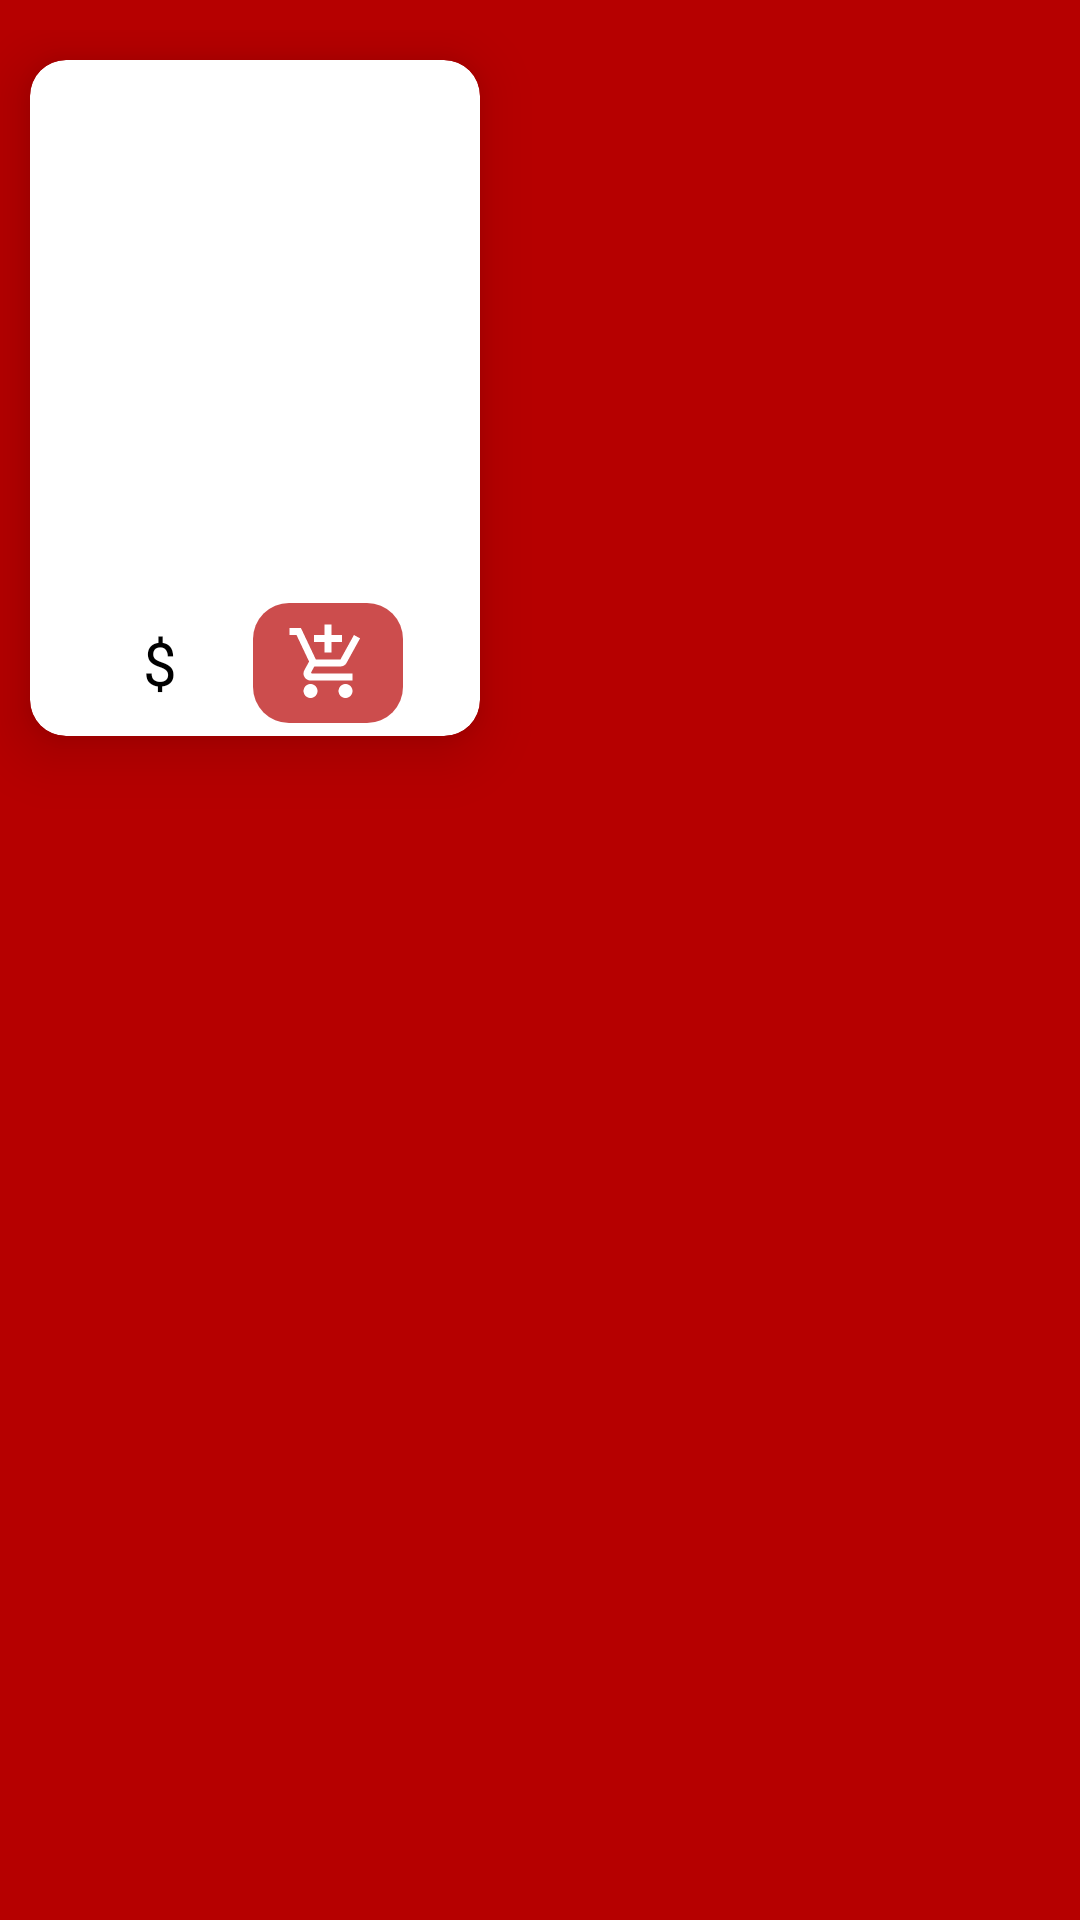

Icon click points for this 1080x1920 phone screenshot, format [x,y]:
add cart: [328,663]
